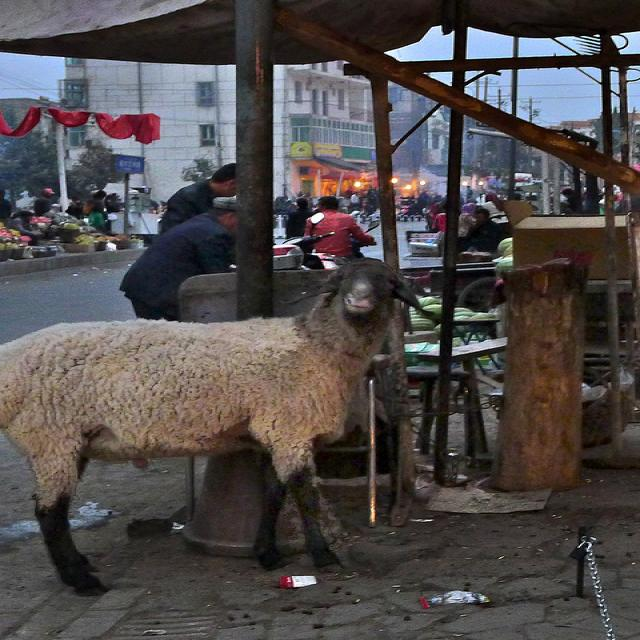motor: (273, 212, 348, 269), (350, 220, 378, 258)
